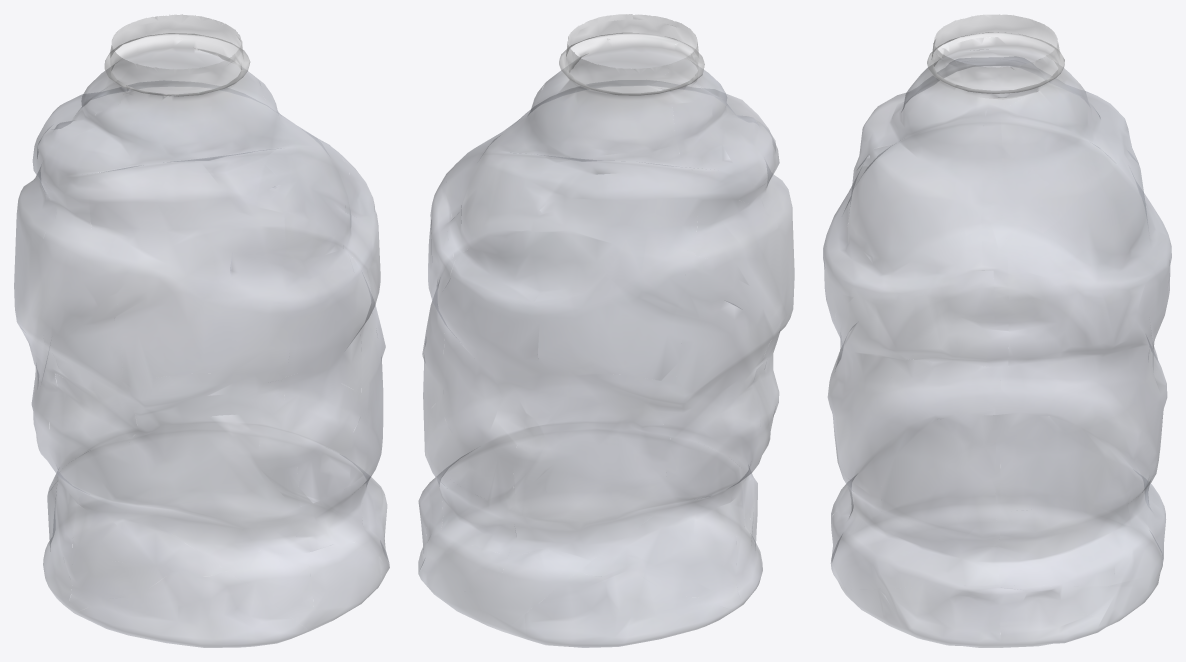
Rendered from 07_4_nj_et_cc_xl_trs.glb.
3 views of the same model, side by side, from view 1: azimuth 30°, elevation 25°; view 2: azimuth 150°, elevation 25°; view 3: azimuth 270°, elevation 25° (orthographic). The views are drawn at different scales.
Parts seen in each view (by area): view 1: tripo_material_373b0c34-68a8-413f-8876-a308a7c492da.008; view 2: tripo_material_373b0c34-68a8-413f-8876-a308a7c492da.008; view 3: tripo_material_373b0c34-68a8-413f-8876-a308a7c492da.008.
Boxes of the visible parts, left/top/right/bottom form: tripo_material_373b0c34-68a8-413f-8876-a308a7c492da.008: left=14, top=14, right=389, bottom=647; tripo_material_373b0c34-68a8-413f-8876-a308a7c492da.008: left=418, top=14, right=794, bottom=647; tripo_material_373b0c34-68a8-413f-8876-a308a7c492da.008: left=823, top=14, right=1171, bottom=647.
Bounding box in the file's own units: 0.2575 × 0.4001 × 0.2415.
1 material, 1 textured.
